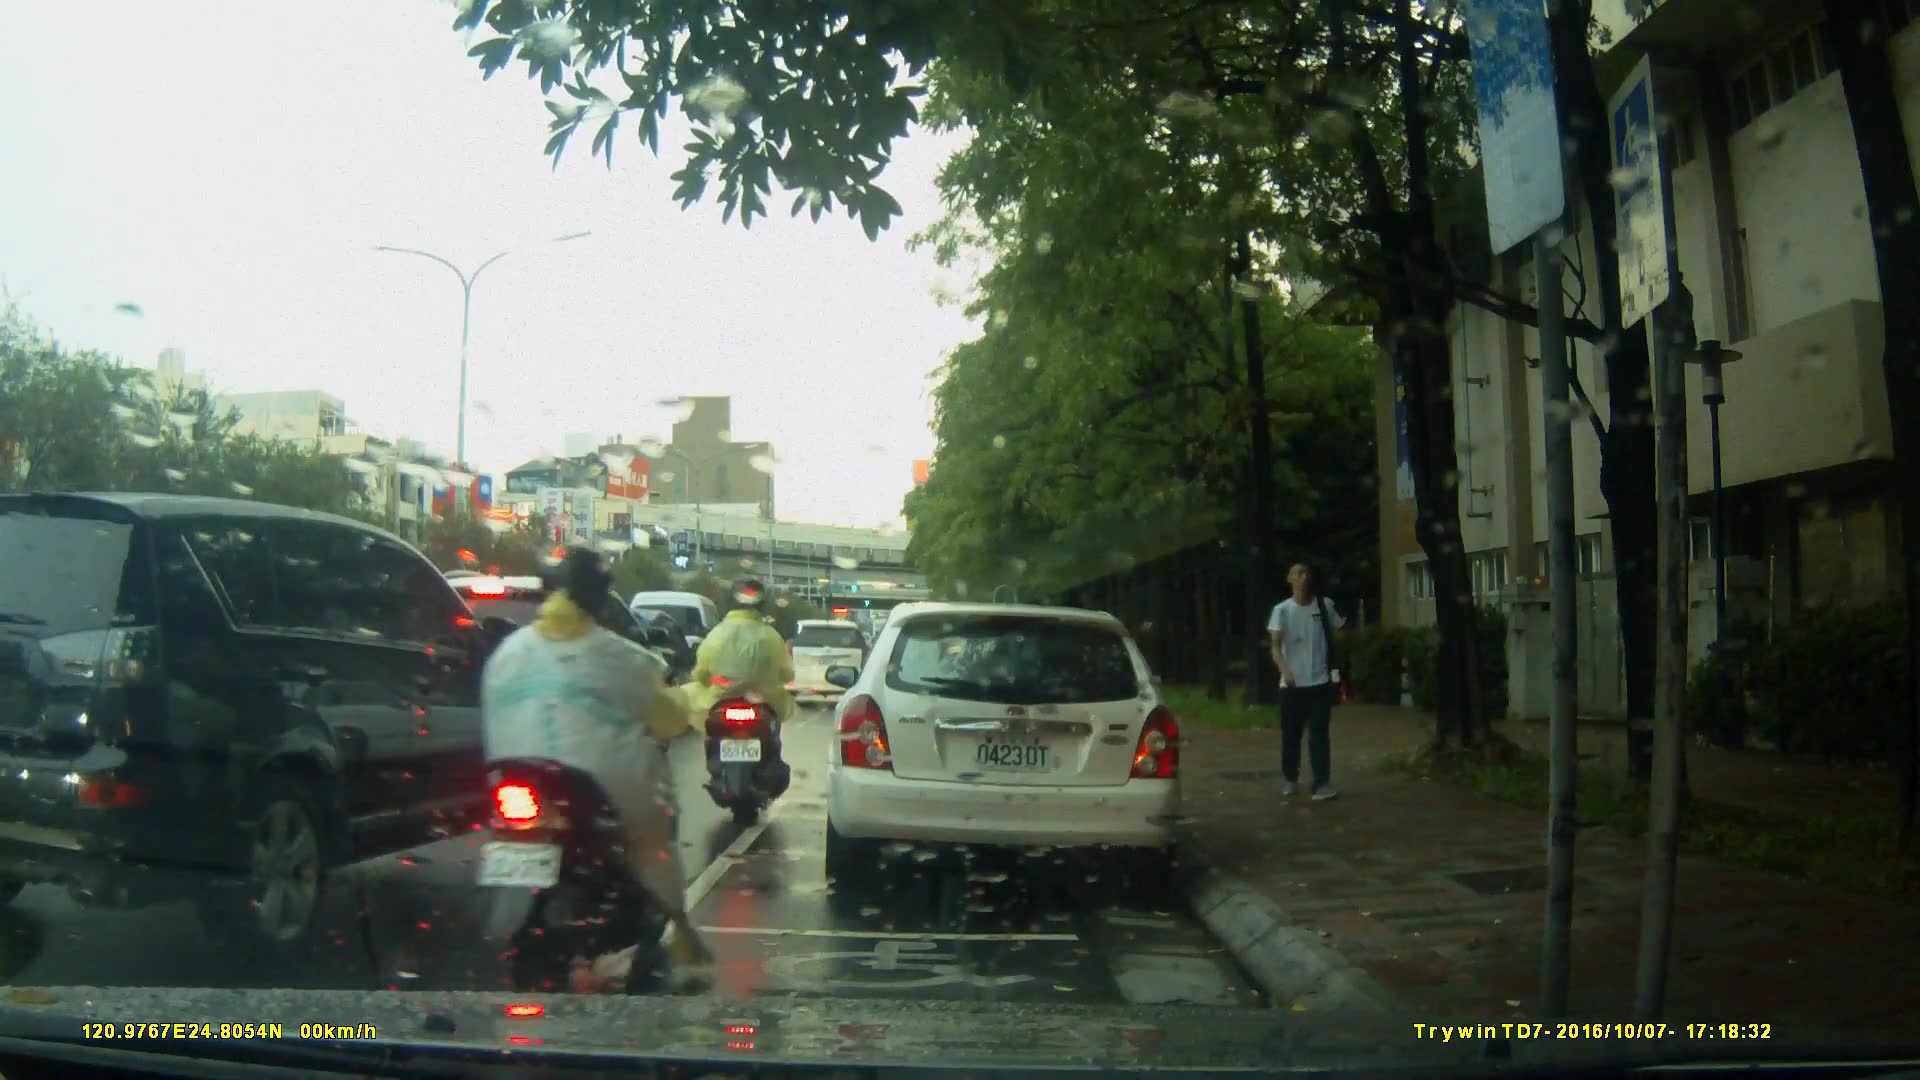pedestrian: (1246, 554, 1350, 812)
rider: (483, 541, 712, 991), (687, 581, 804, 825)
vehicle: (1, 488, 583, 958), (820, 602, 1188, 898), (375, 569, 677, 779), (620, 589, 737, 714), (770, 617, 878, 710)
